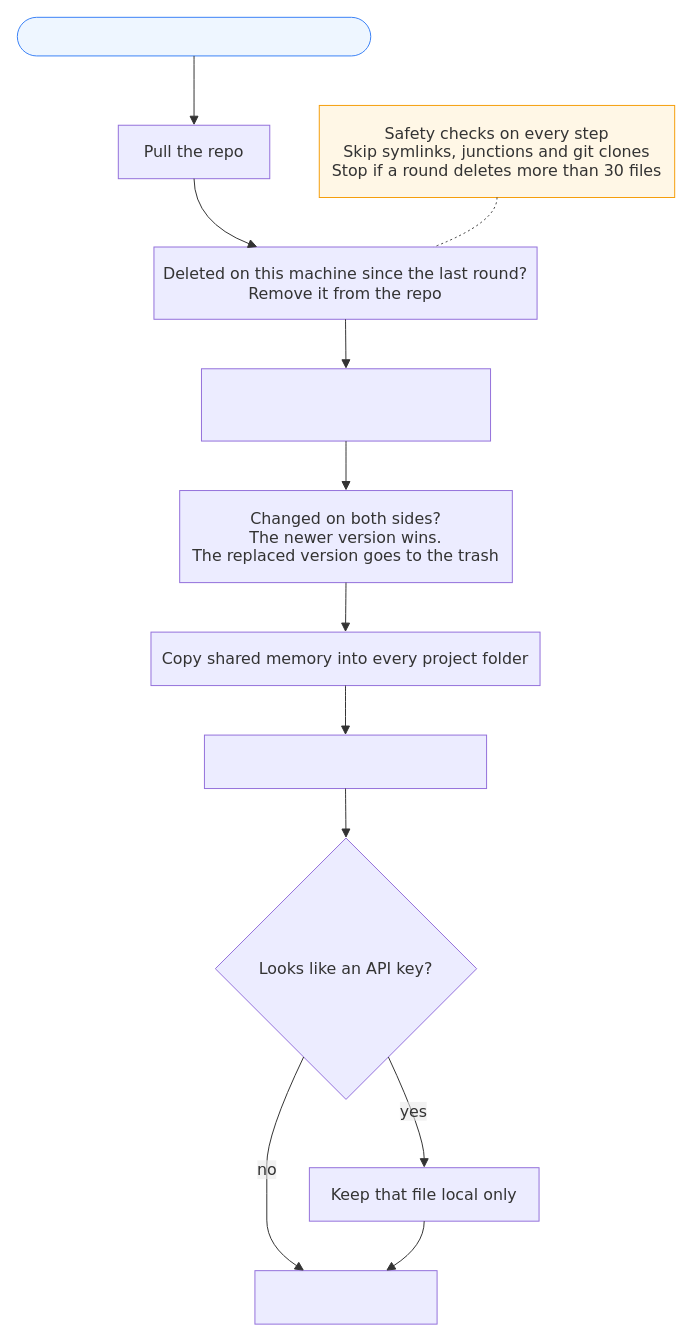
Some shapes in this 692 by 1341 pixel diagram are drawn without their labels. Each missing label, with the box of its shape:
Commit and push: (254, 1270, 437, 1324)
Deleted by another machine? Move the local copy to the trash: (200, 368, 491, 441)
Rebuild each MEMORY.md index: (203, 734, 487, 789)
Trigger: session start, schedule, or manual run: (16, 16, 371, 56)
